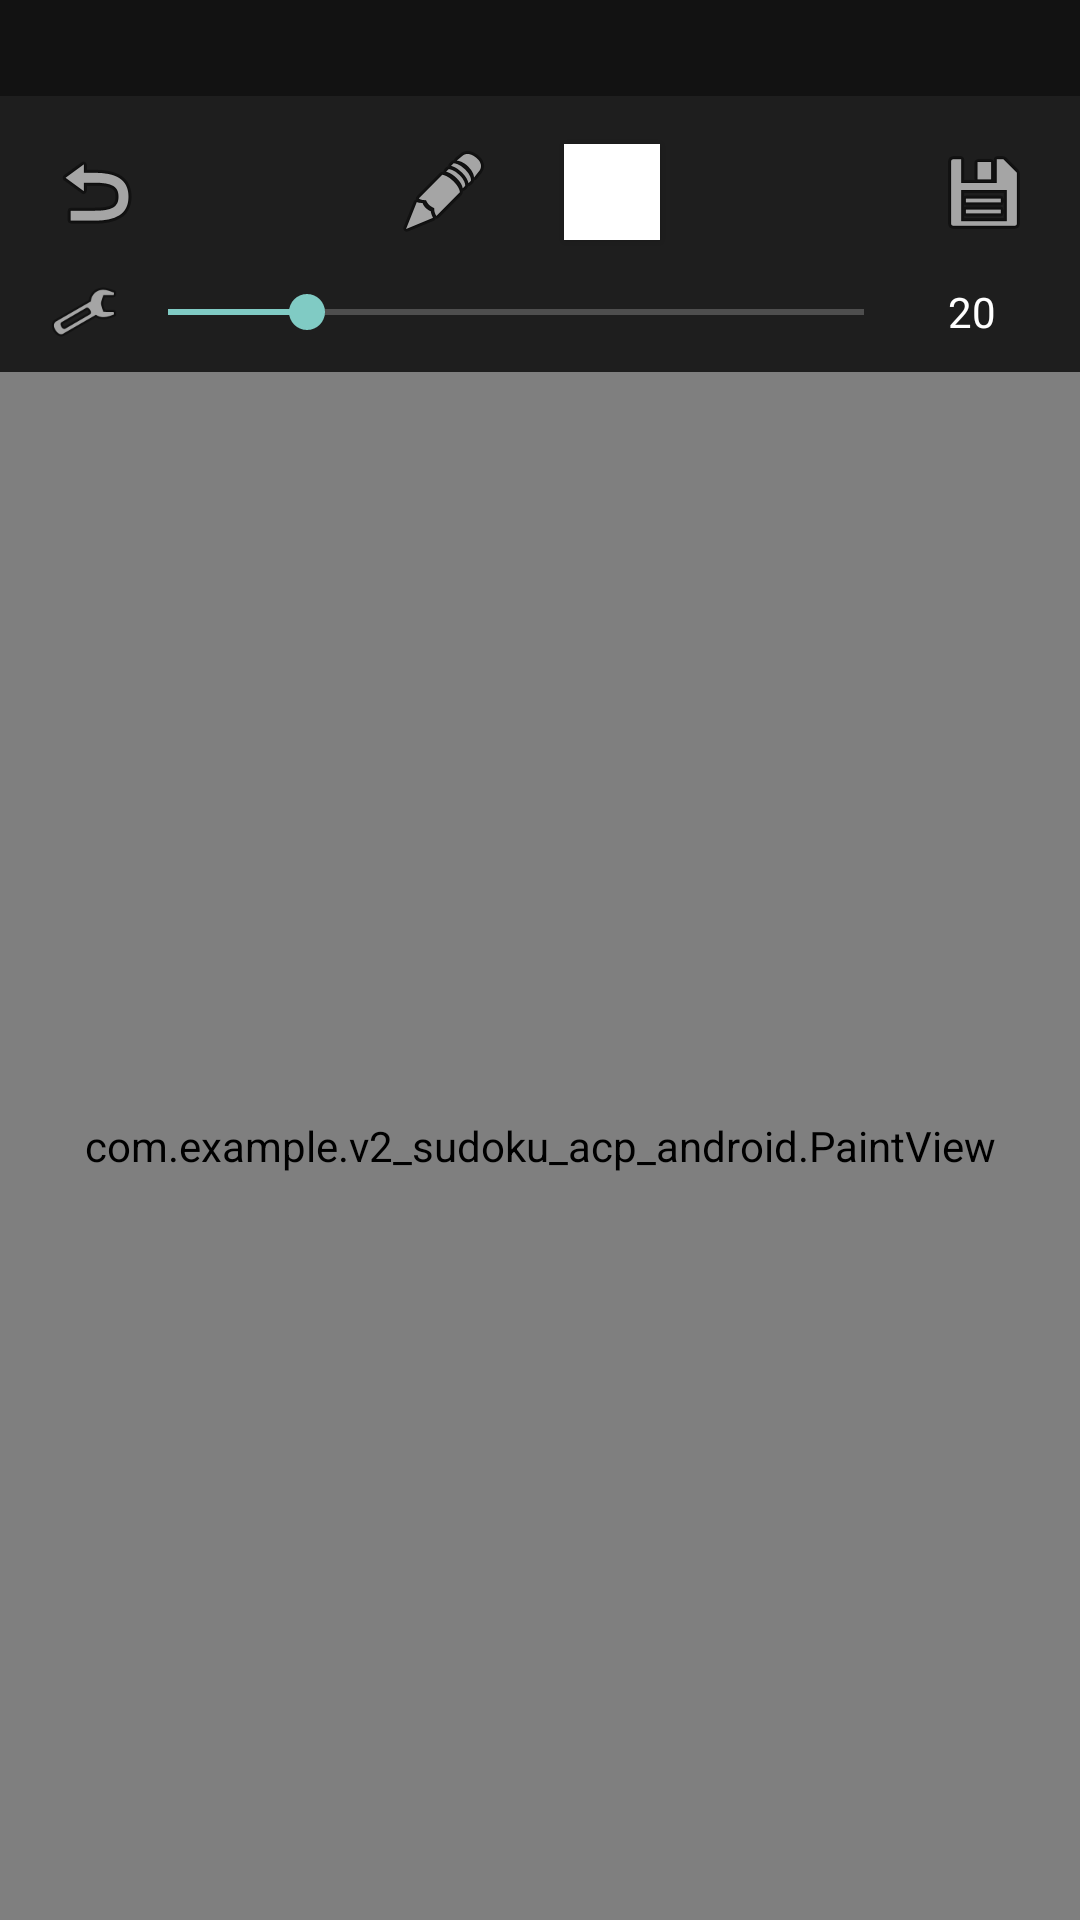

Where to tap for icons on this 1080w x 1920h app screen, as [x,y]:
Save: [984,192]
Toggle Paint/Zoom: [443,191]
Undo: [97,192]
